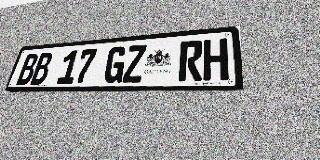1: (56, 50, 81, 84)
7: (73, 48, 97, 84)
B: (30, 52, 54, 85), (16, 53, 40, 85)
G: (103, 46, 127, 83)
H: (203, 38, 229, 81)
R: (178, 40, 203, 81)
Z: (122, 44, 147, 83)
